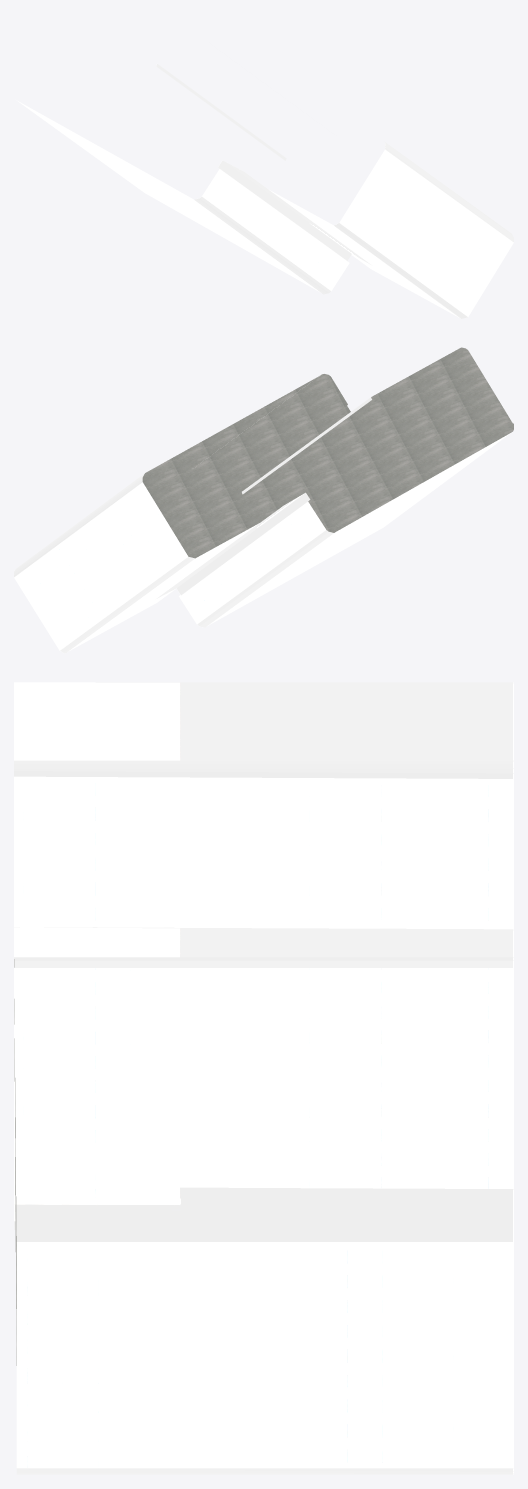
3 renders of one model, top to bottom at view 1: azimuth 30°, elevation 25°; view 2: azimuth 150°, elevation 25°; view 3: azimuth 270°, elevation 25°, orthographic. The views are drawn at different scales.
Parts seen in each view (by area): view 1: BuildingMaster_1991194553994463780300000000_0; view 2: BuildingMaster_1991194553994463780300000000_1, BuildingMaster_1991194553994463780300000000_0; view 3: BuildingMaster_1991194553994463780300000000_0.
Part boxes in pixels (bbox=[...]): BuildingMaster_1991194553994463780300000000_0: bbox=[16, 64, 513, 318]; BuildingMaster_1991194553994463780300000000_1: bbox=[142, 347, 513, 558]; BuildingMaster_1991194553994463780300000000_0: bbox=[14, 397, 511, 653]; BuildingMaster_1991194553994463780300000000_0: bbox=[14, 682, 513, 1474].
Bounding box in the file's own units: 81 × 57.75 × 49.
